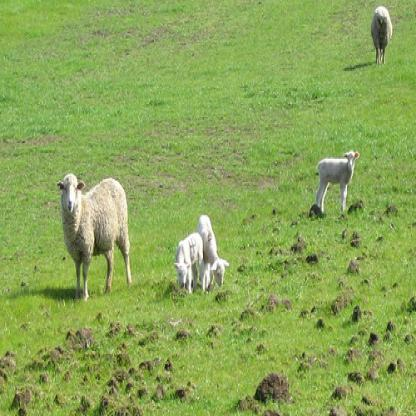sheep: (58, 174, 133, 298), (314, 152, 360, 214), (197, 215, 229, 293), (174, 231, 203, 292), (372, 3, 393, 65)
